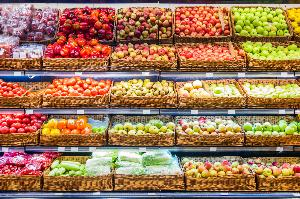apple: (183, 154, 248, 186), (118, 7, 174, 40), (177, 40, 243, 66), (242, 78, 300, 107), (175, 7, 231, 37), (242, 38, 300, 66), (231, 6, 286, 34), (110, 44, 174, 68), (250, 156, 300, 185), (178, 117, 241, 140), (241, 117, 300, 139), (209, 80, 241, 104), (178, 78, 209, 102)
bell_pepper: (55, 8, 115, 42), (42, 112, 108, 142), (42, 40, 108, 66)
pear: (108, 114, 178, 142), (113, 74, 175, 104)
tomato: (0, 7, 57, 43), (41, 75, 113, 97), (0, 111, 42, 141), (0, 75, 48, 101), (0, 43, 42, 69)
zucchini: (44, 154, 84, 182)
